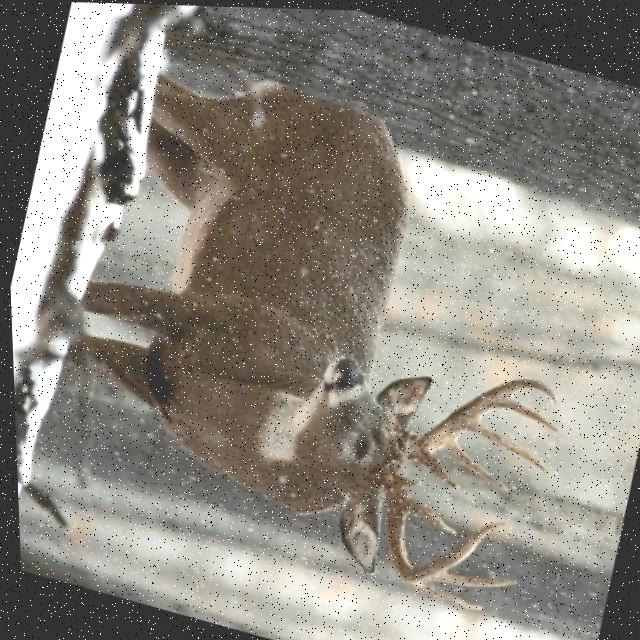L-F: (402, 374, 554, 455)
L-G1: (405, 451, 457, 487)
L-G2: (436, 437, 507, 492)
L-G3: (461, 418, 545, 473)
L-G4: (491, 393, 558, 430)
R-F: (361, 456, 501, 580)
R-G1: (396, 471, 418, 484)
R-G2: (401, 491, 453, 534)
R-G3: (399, 578, 479, 608)
R-G4: (419, 566, 515, 586)
